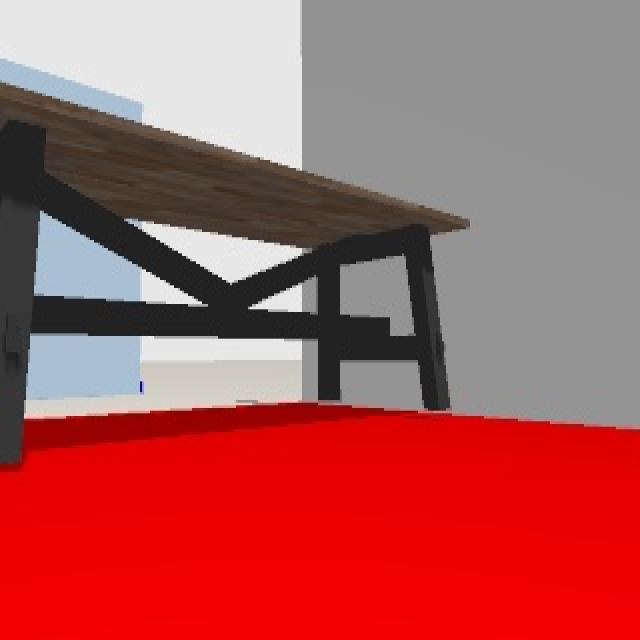dining: (1, 77, 463, 409)
